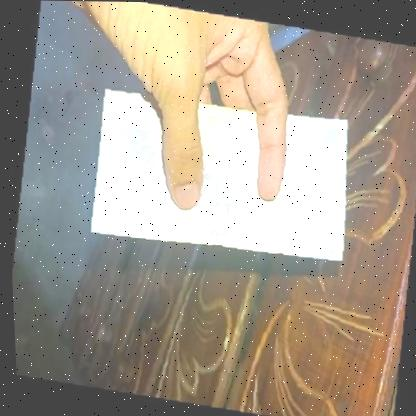two_hundred-back-vef: (83, 88, 353, 260)
